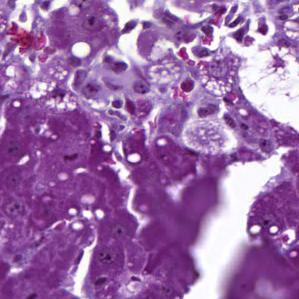ballooning: (236, 43, 297, 136), (179, 113, 241, 159)
